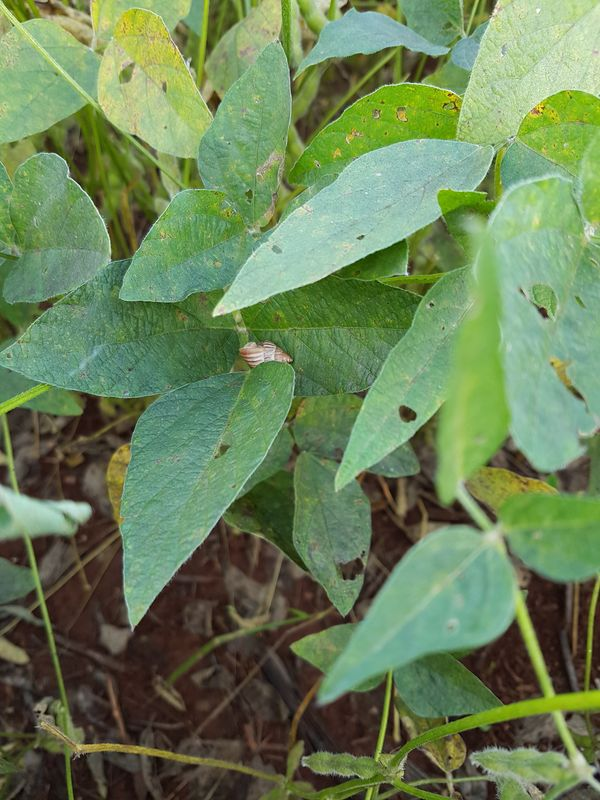Gastropoda: (231, 328, 302, 385)
